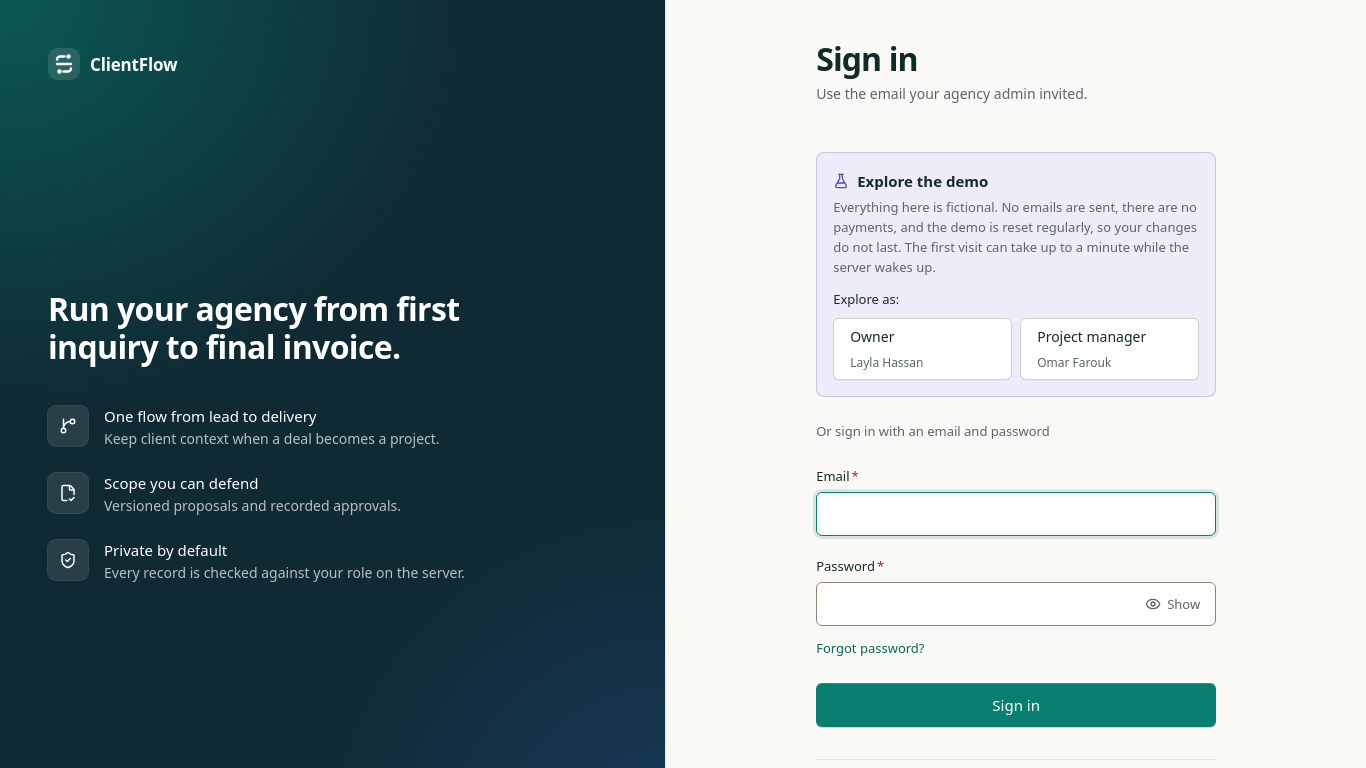
Test: LoginPage on a public demo (ADR-071) › explains a throttled demo sign-in
The image size is (1366, 768).
Step 1. Click the button with aria-label "Explore as Owner" → (923, 349), box x1=833 y1=318 x2=1012 y2=380
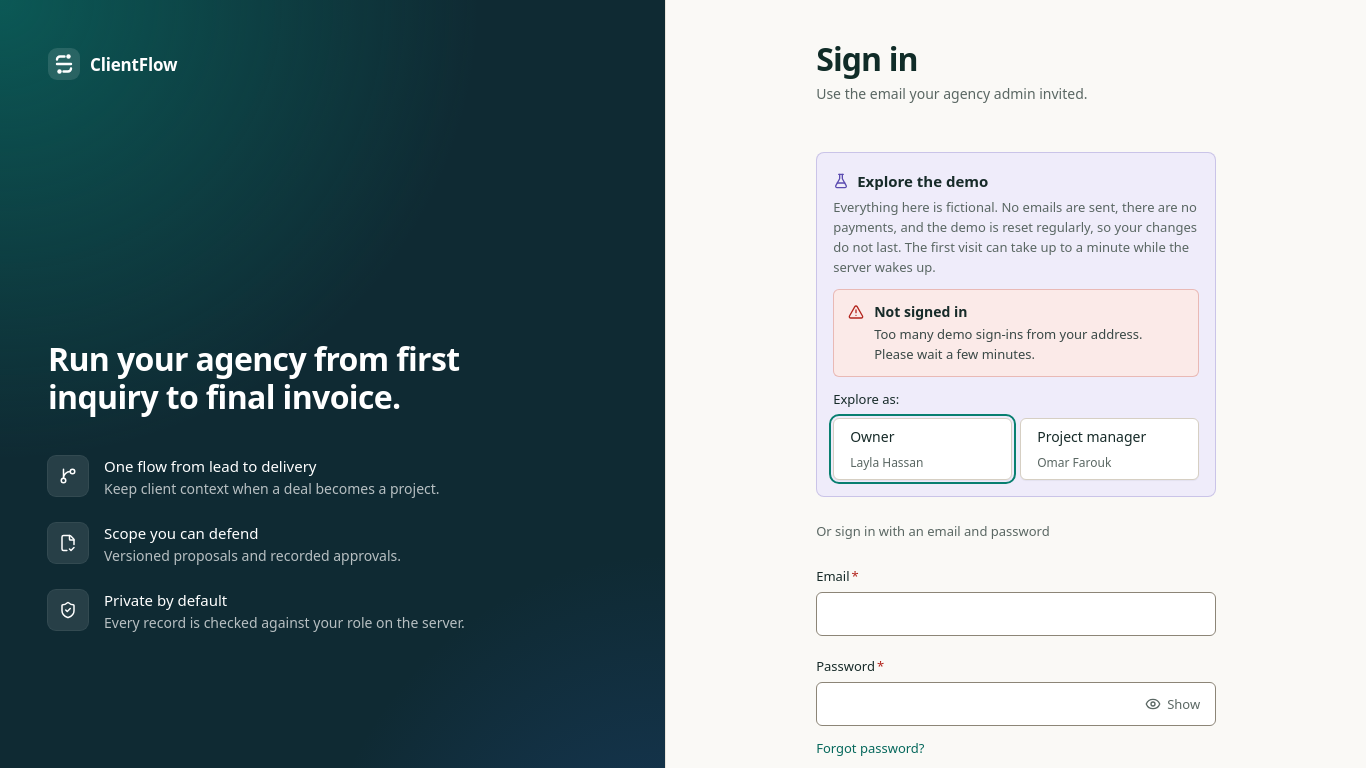
Now the text "Too many demo sign-ins from your address" is shown, box x1=874 y1=325 x2=1143 y2=363
